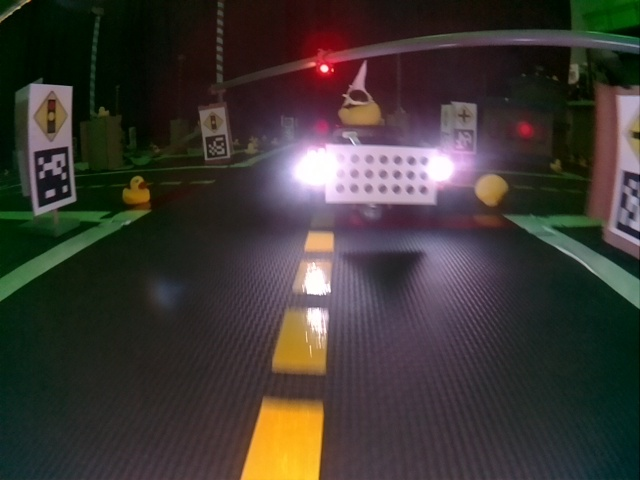Duckie: (339, 62, 381, 125), (478, 174, 507, 206), (123, 176, 149, 203)
Duckiebot: (298, 129, 444, 206)
Intersection sign: (454, 103, 475, 128)
QR code: (32, 149, 72, 202), (612, 168, 638, 244), (204, 135, 226, 159), (454, 131, 474, 152)
Signal sign: (32, 88, 69, 141), (203, 111, 224, 133)
Traffic light: (315, 50, 334, 76)
